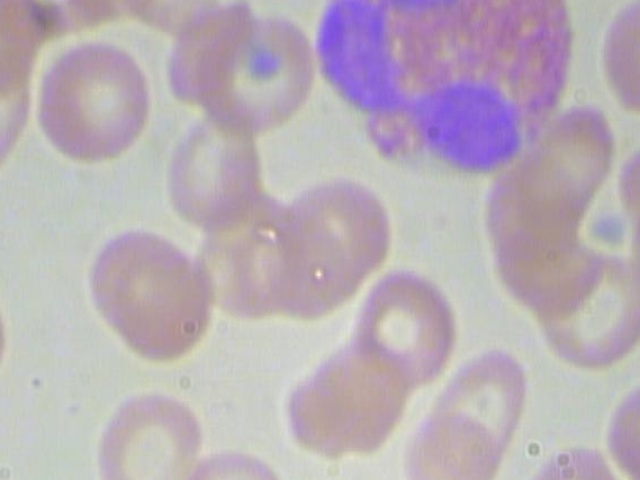Platelets: (583, 210, 628, 247), (0, 404, 4, 453)
RBC: (68, 224, 203, 344), (196, 2, 321, 131), (30, 33, 151, 165), (424, 346, 537, 467), (354, 260, 457, 385), (112, 249, 215, 367), (91, 380, 201, 480), (385, 406, 502, 480), (0, 66, 33, 200), (0, 0, 44, 87)
WBC: (299, 0, 588, 182)
